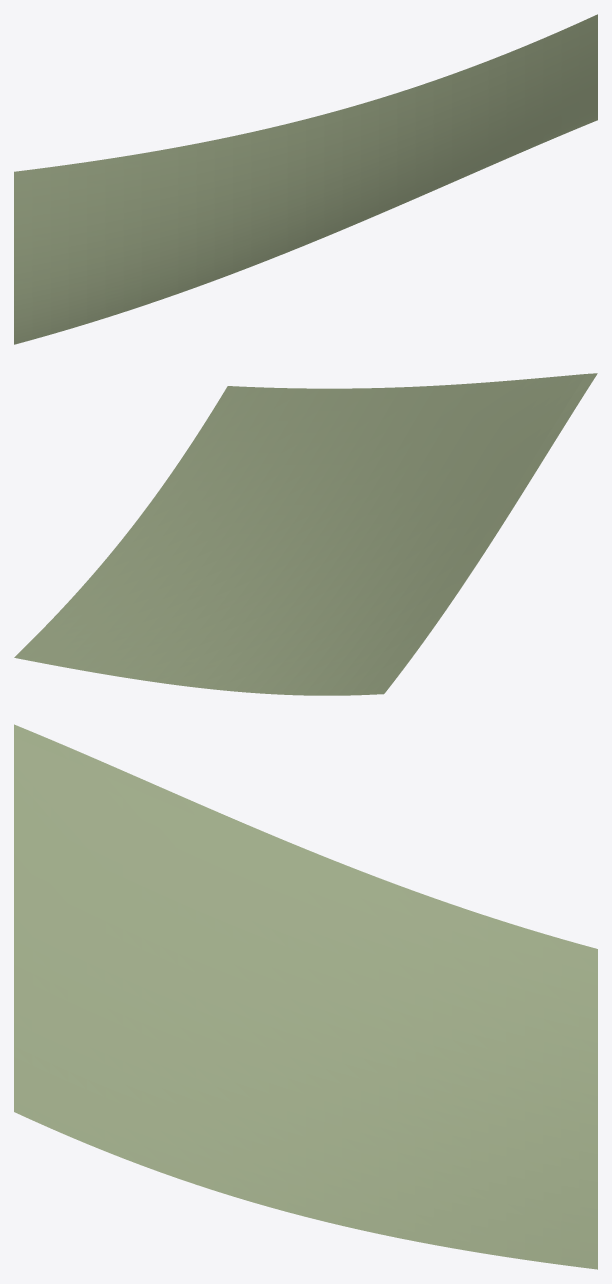
Rendered from expanse-23-27.glb.
3 views of the same model, one above another, from view 1: azimuth 90°, elevation 25°; view 2: azimuth 150°, elevation 25°; view 3: azimuth 270°, elevation 25° (orthographic). The views are drawn at different scales.
Parts seen in each view (by area): view 1: expanse-23-27; view 2: expanse-23-27; view 3: expanse-23-27.
Part boxes in pixels (x1,y1,x2,y2): expanse-23-27: (14,14,597,344); expanse-23-27: (14,373,597,695); expanse-23-27: (14,724,597,1269).
Bounding box in the file's own units: 256 × 144 × 256.
